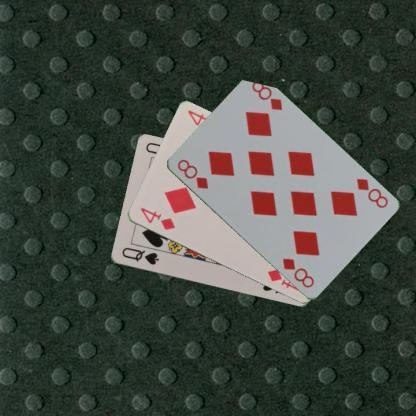4d: (138, 205, 176, 232)
8d: (174, 156, 210, 191), (353, 175, 389, 210)
Qs: (119, 244, 160, 266)
